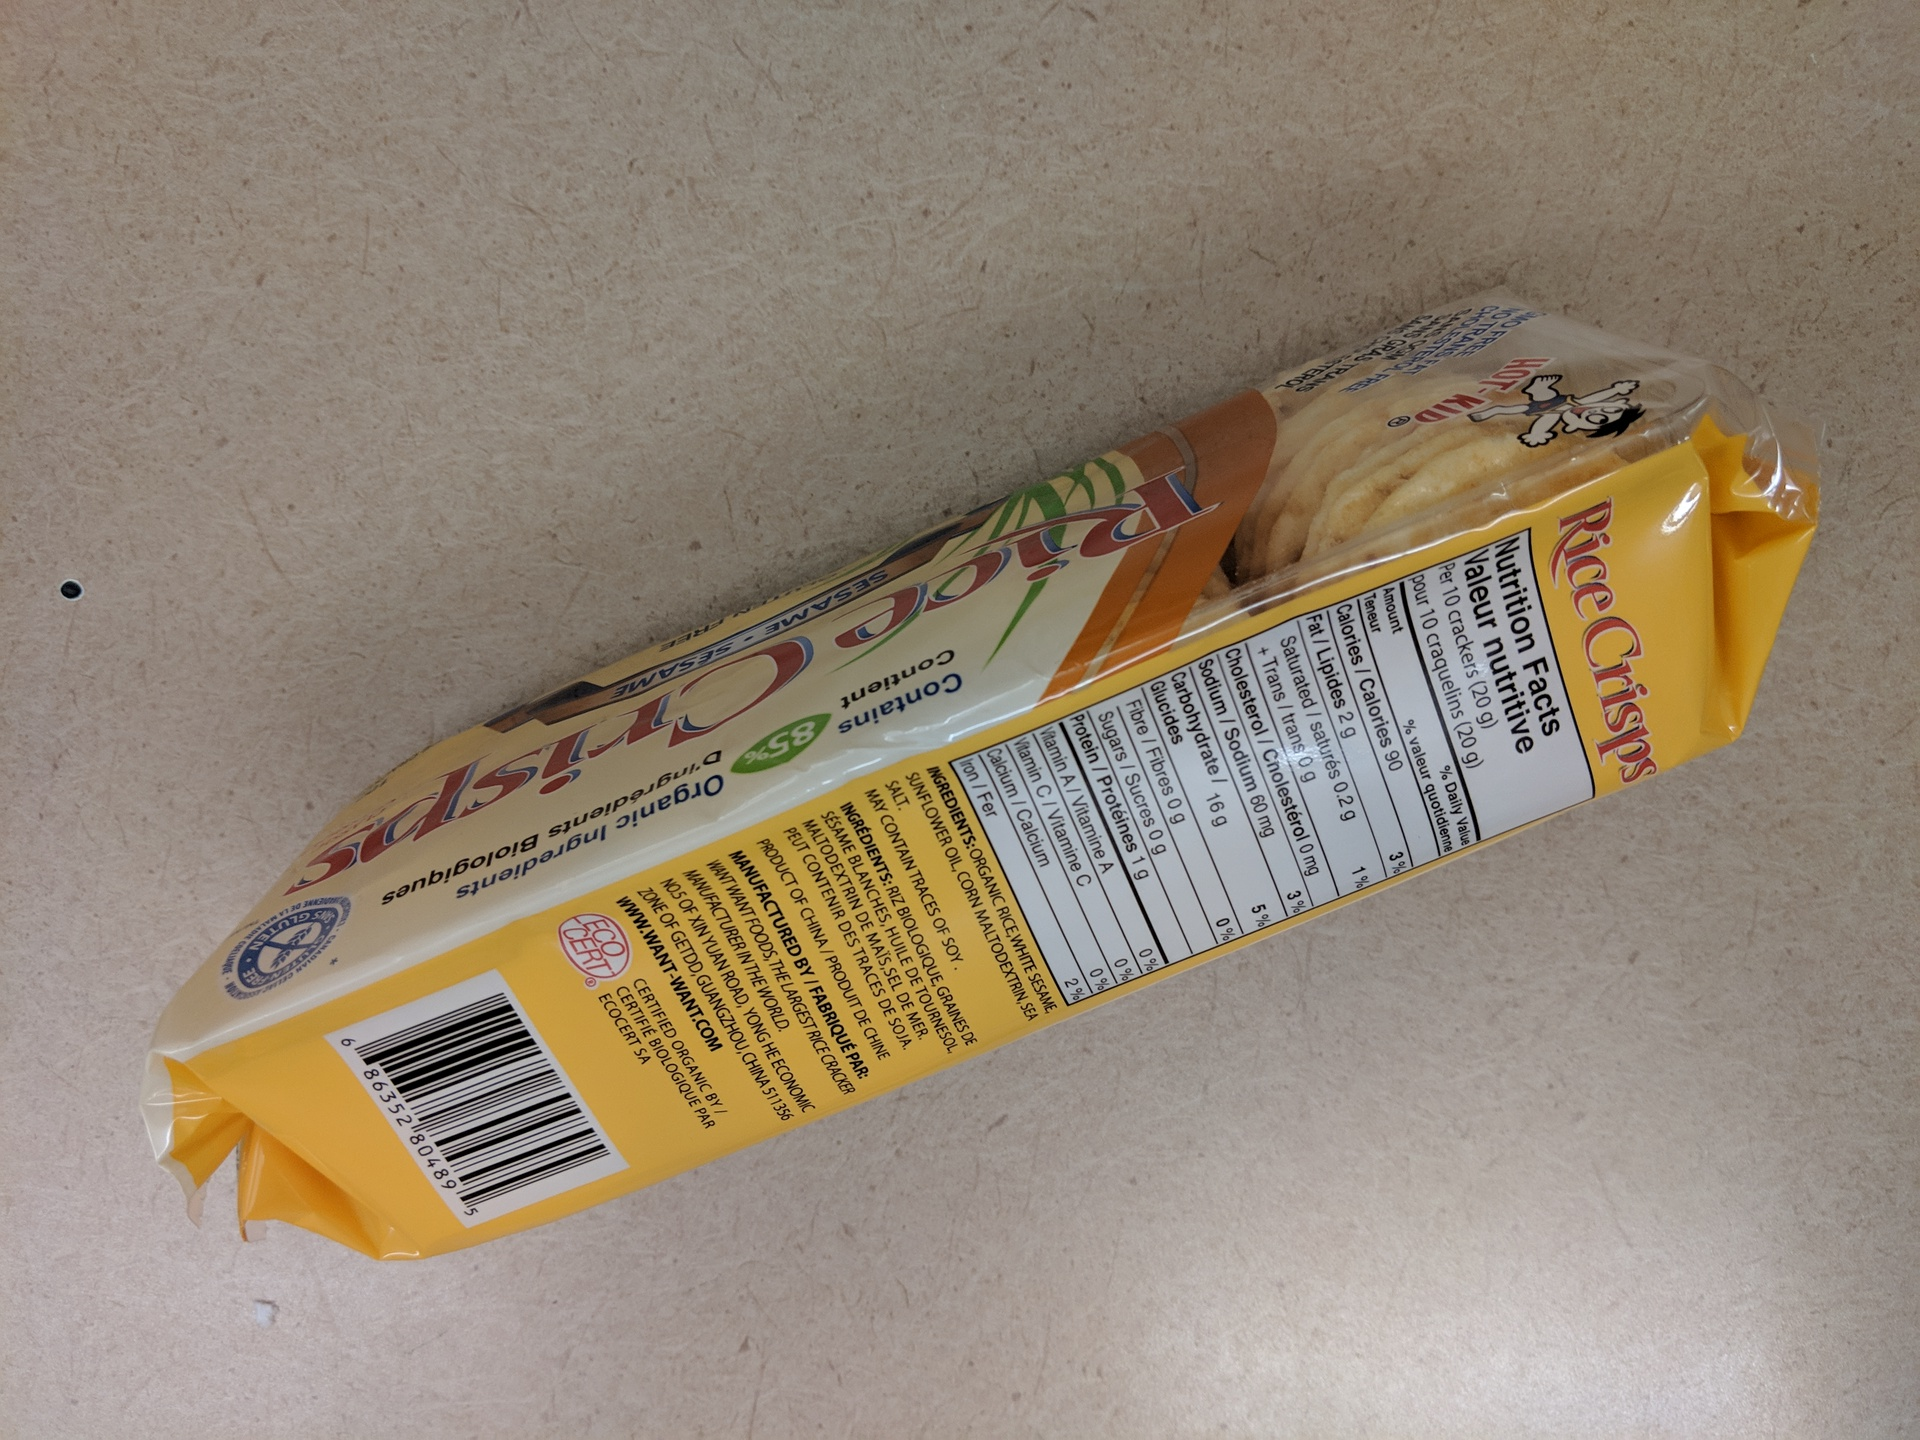hot_kid_rice_crisps_sesame: (135, 286, 1831, 1265)
